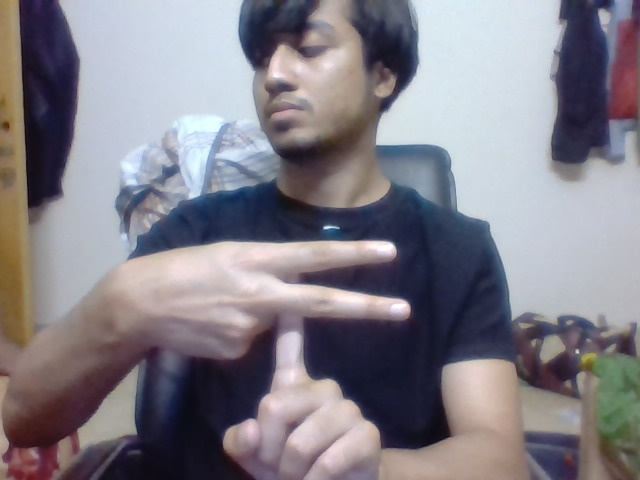F: (271, 235, 416, 375)
